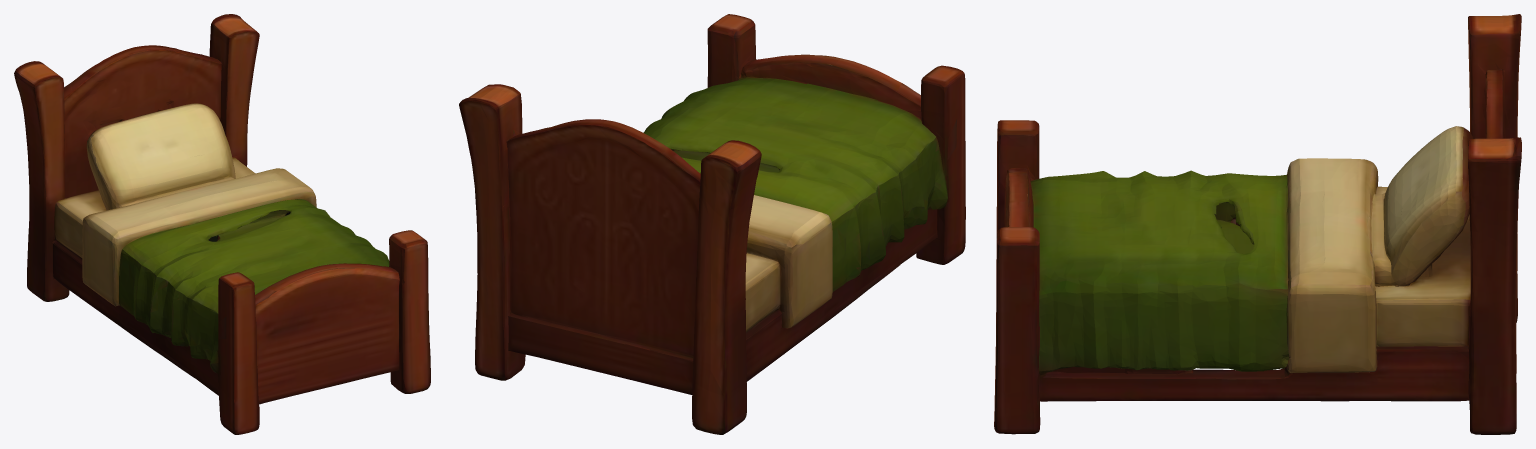
File: bed.glb
3 views of the same model, side by side, from view 1: azimuth 30°, elevation 25°; view 2: azimuth 150°, elevation 25°; view 3: azimuth 270°, elevation 25° (orthographic). The views are drawn at different scales.
Visible parts, largest first — view 1: world.001; view 2: world.001; view 3: world.001.
Part boxes in pixels (box(x1,y1,x2,y2)): world.001: box(14, 14, 430, 434); world.001: box(459, 14, 965, 434); world.001: box(994, 14, 1521, 434).
Size of the model in its own units: 0.6392 by 0.6105 by 0.998.
1 material, 1 textured.
